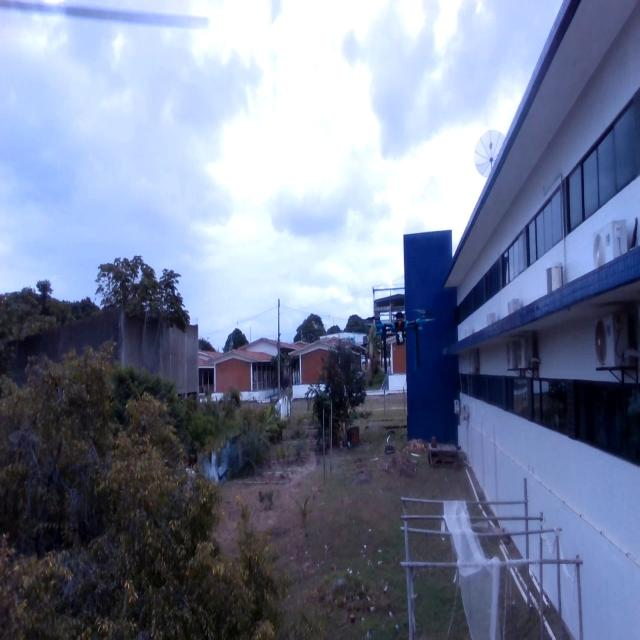-uav-: (376, 304, 431, 378)
